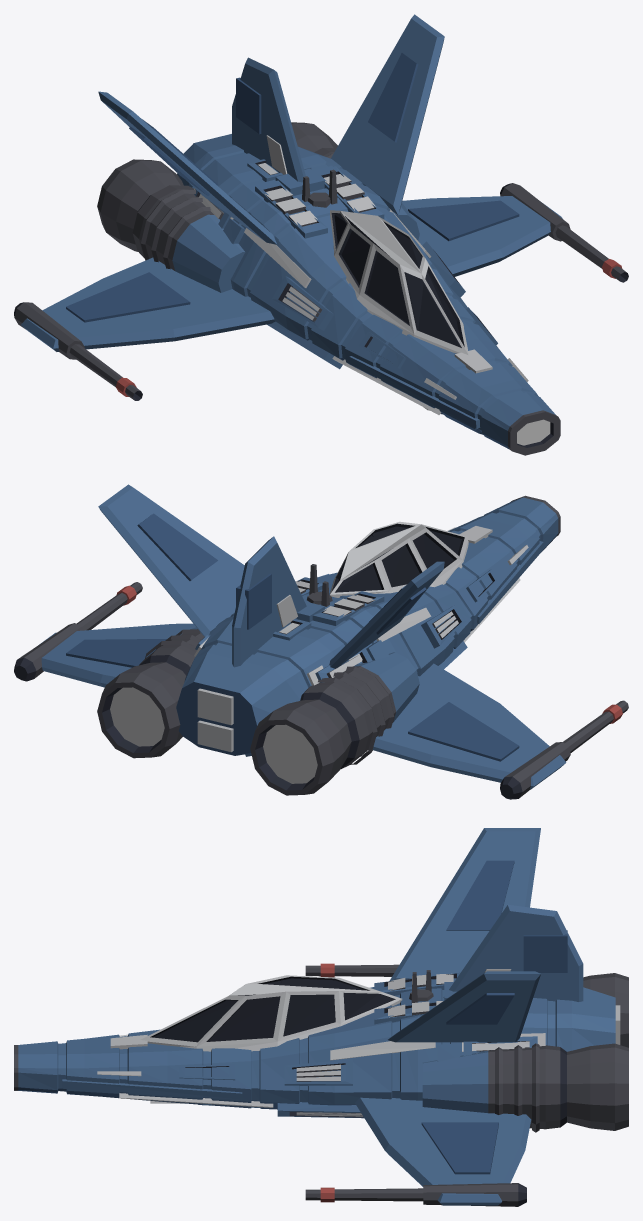
Rendered from agile-starfighter-89805f.glb.
3 renders of one model, top to bottom at view 1: azimuth 30°, elevation 25°; view 2: azimuth 150°, elevation 25°; view 3: azimuth 270°, elevation 25°, orthographic. The views are drawn at different scales.
Visible parts, largest first — view 1: agile-starfighter, wing-fold-ll, wing-fold-ur, wing-fold-lr, nozzle-l, wing-fold-ul, nozzle-r; view 2: agile-starfighter, wing-fold-ll, wing-fold-ur, wing-fold-lr, nozzle-l, nozzle-r, wing-fold-ul; view 3: agile-starfighter, wing-fold-lr, wing-fold-ul, wing-fold-ur, nozzle-r, nozzle-l, wing-fold-ll.
Boxes of the visible parts, left/top/right/bottom form: agile-starfighter: left=132, top=57, right=560, bottom=455; wing-fold-ll: left=14, top=257, right=275, bottom=400; wing-fold-ur: left=331, top=14, right=444, bottom=214; wing-fold-lr: left=402, top=183, right=628, bottom=282; nozzle-l: left=97, top=159, right=183, bottom=251; wing-fold-ul: left=98, top=91, right=277, bottom=244; nozzle-r: left=291, top=122, right=337, bottom=152; agile-starfighter: left=139, top=495, right=560, bottom=769; wing-fold-ll: left=372, top=663, right=628, bottom=799; wing-fold-ur: left=98, top=484, right=244, bottom=636; wing-fold-lr: left=14, top=582, right=195, bottom=687; nozzle-l: left=250, top=699, right=351, bottom=795; nozzle-r: left=97, top=662, right=186, bottom=758; wing-fold-ul: left=329, top=561, right=444, bottom=668; agile-starfighter: left=14, top=904, right=620, bottom=1132; wing-fold-lr: left=305, top=1097, right=531, bottom=1206; wing-fold-ul: left=389, top=828, right=540, bottom=981; wing-fold-ur: left=388, top=971, right=540, bottom=1042; nozzle-r: left=567, top=1043, right=628, bottom=1130; nozzle-l: left=583, top=973, right=628, bottom=1047; wing-fold-ll: left=305, top=963, right=398, bottom=977.
Size of the model in its own units: 6.37 by 2.65 by 7.
